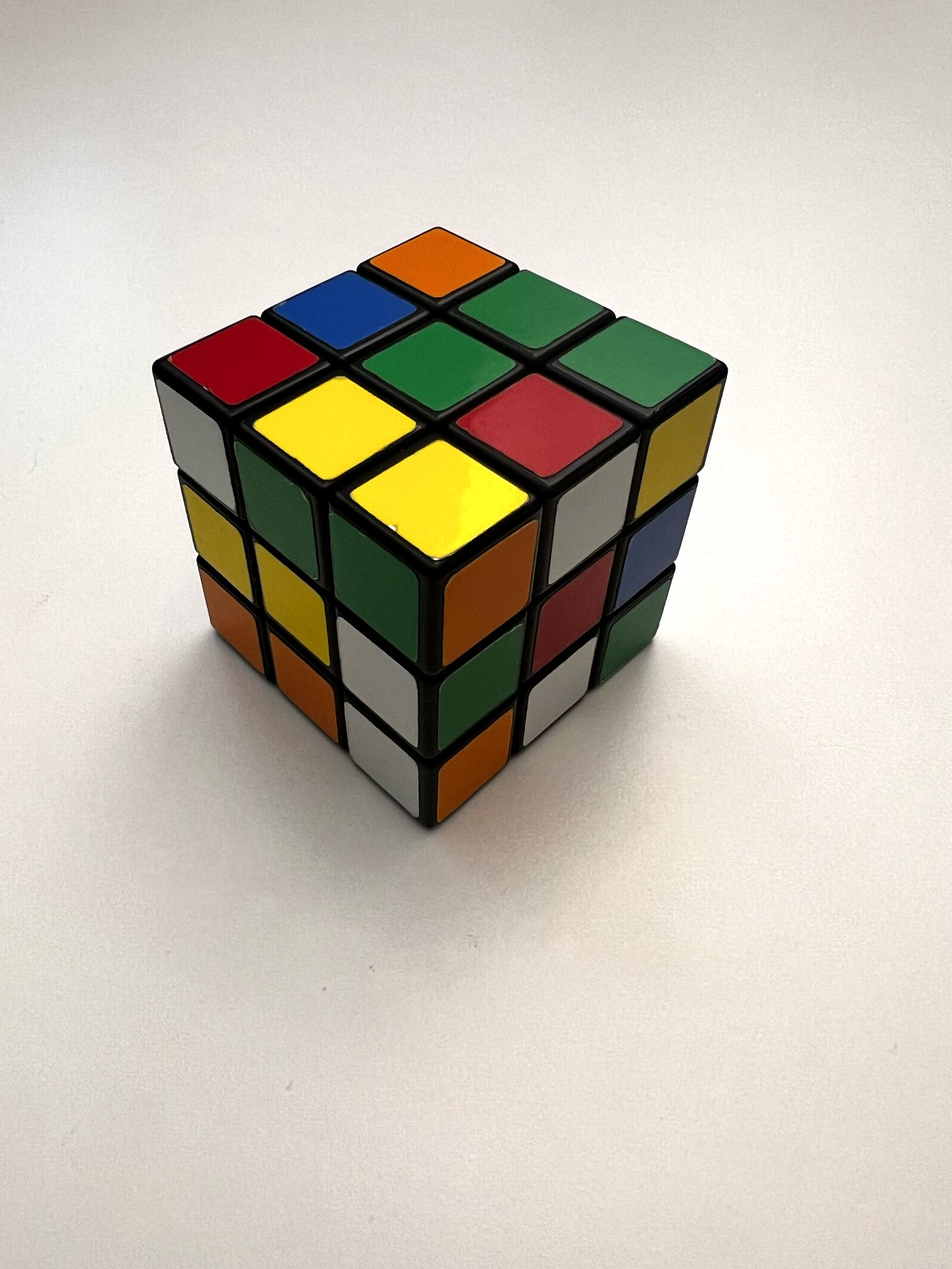rubiks_cube: (156, 228, 724, 823)
